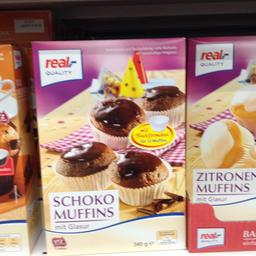cake: (28, 36, 188, 250), (183, 31, 255, 248)
